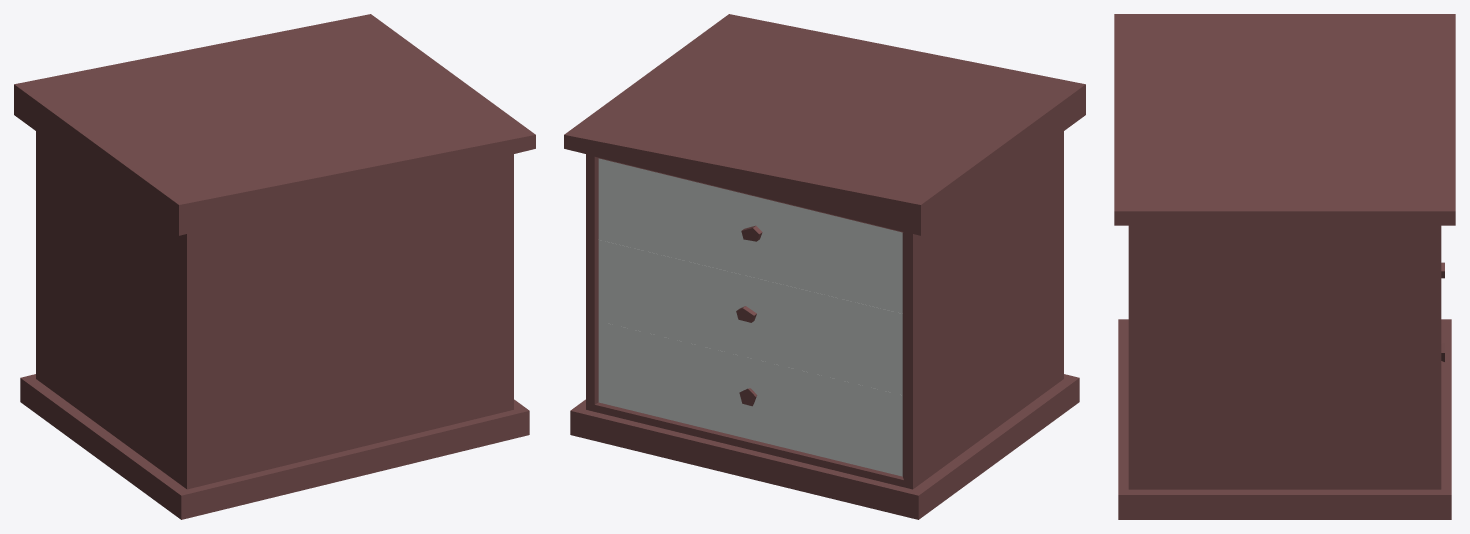
The model's file is small pedestal living room.fbx.
The picture shows the model from 3 angles, left to right: view 1: azimuth 30°, elevation 25°; view 2: azimuth 150°, elevation 25°; view 3: azimuth 270°, elevation 25°; orthographic projection. The views are drawn at different scales.
Parts seen in each view (by area): view 1: small pedestal living room; view 2: small pedestal living room, small pedestal living room.002, small pedestal living room.001, small pedestal living room.003; view 3: small pedestal living room.
Boxes of the visible parts, x1,y1,x2,y2 form: small pedestal living room: (14, 14, 535, 519); small pedestal living room: (564, 14, 1085, 519); small pedestal living room.002: (598, 240, 902, 395); small pedestal living room.001: (598, 158, 902, 313); small pedestal living room.003: (598, 321, 902, 476); small pedestal living room: (1114, 14, 1455, 519).
Bounding box in the file's own units: 1.05 × 0.8933 × 0.842.
